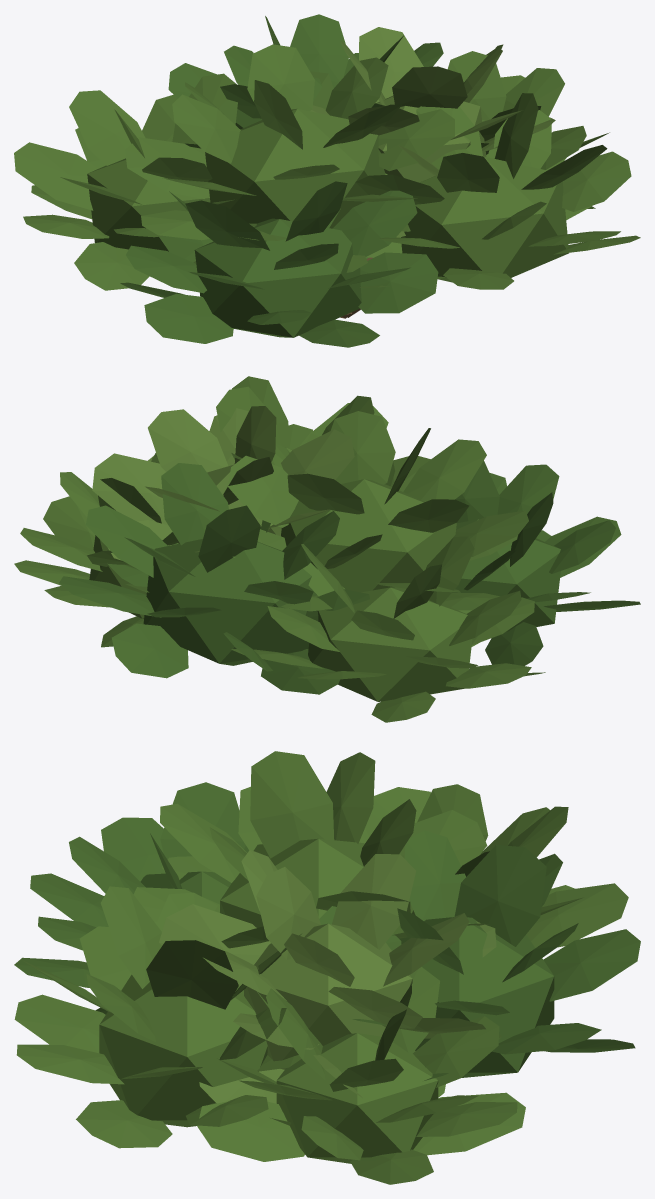
File: SM_BushRound.fbx
3 renders of one model, top to bottom at view 1: azimuth 30°, elevation 25°; view 2: azimuth 150°, elevation 25°; view 3: azimuth 270°, elevation 25°, orthographic. The views are drawn at different scales.
Parts seen in each view (by area): view 1: SM_BushRound; view 2: SM_BushRound; view 3: SM_BushRound.
Boxes of the visible parts, box(x1,y1,x2,y2) form: SM_BushRound: box(14, 14, 640, 347); SM_BushRound: box(14, 376, 640, 722); SM_BushRound: box(14, 751, 640, 1184).
Bounding box in the file's own units: 1.53 × 1.29 × 0.7273.
Materials: 1 (1 with a texture image).
